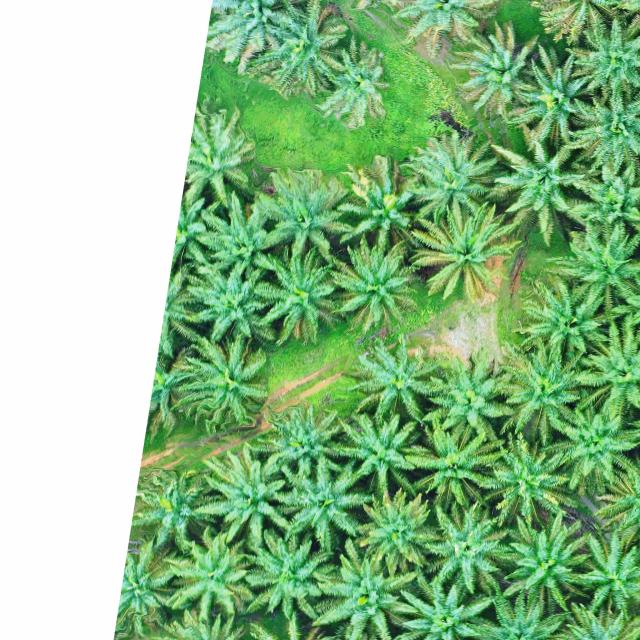Tree: (300, 532, 424, 640), (406, 196, 524, 306), (492, 126, 589, 247), (404, 414, 507, 526), (249, 162, 359, 266), (495, 339, 595, 449), (182, 190, 302, 281), (337, 150, 438, 256), (248, 0, 354, 98), (157, 524, 264, 621), (183, 255, 289, 352), (448, 18, 543, 126), (171, 328, 269, 432), (273, 452, 374, 552), (418, 347, 521, 445), (337, 330, 442, 426), (198, 445, 290, 553), (410, 498, 510, 597), (497, 512, 593, 614), (543, 392, 640, 491), (254, 240, 342, 348), (326, 233, 419, 334), (482, 435, 572, 536), (511, 275, 612, 363), (246, 529, 339, 624), (547, 216, 640, 310), (334, 406, 426, 501), (561, 307, 640, 416), (512, 48, 598, 143), (311, 39, 396, 134), (400, 135, 502, 211), (555, 88, 640, 179), (354, 489, 436, 579), (561, 157, 640, 248), (395, 572, 500, 640), (569, 526, 640, 624), (568, 16, 640, 111), (258, 399, 344, 476)
